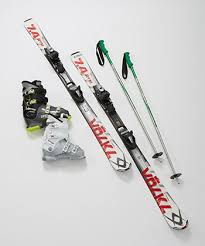skis: (22, 16, 188, 233)
